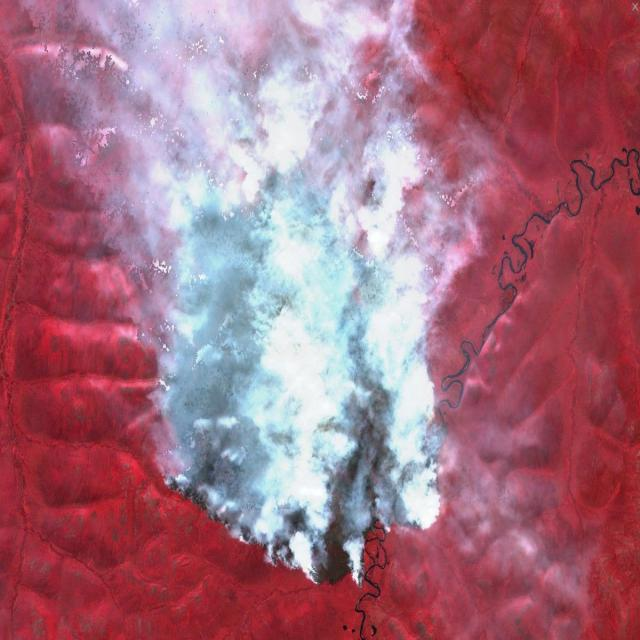fire: (148, 154, 451, 595)
